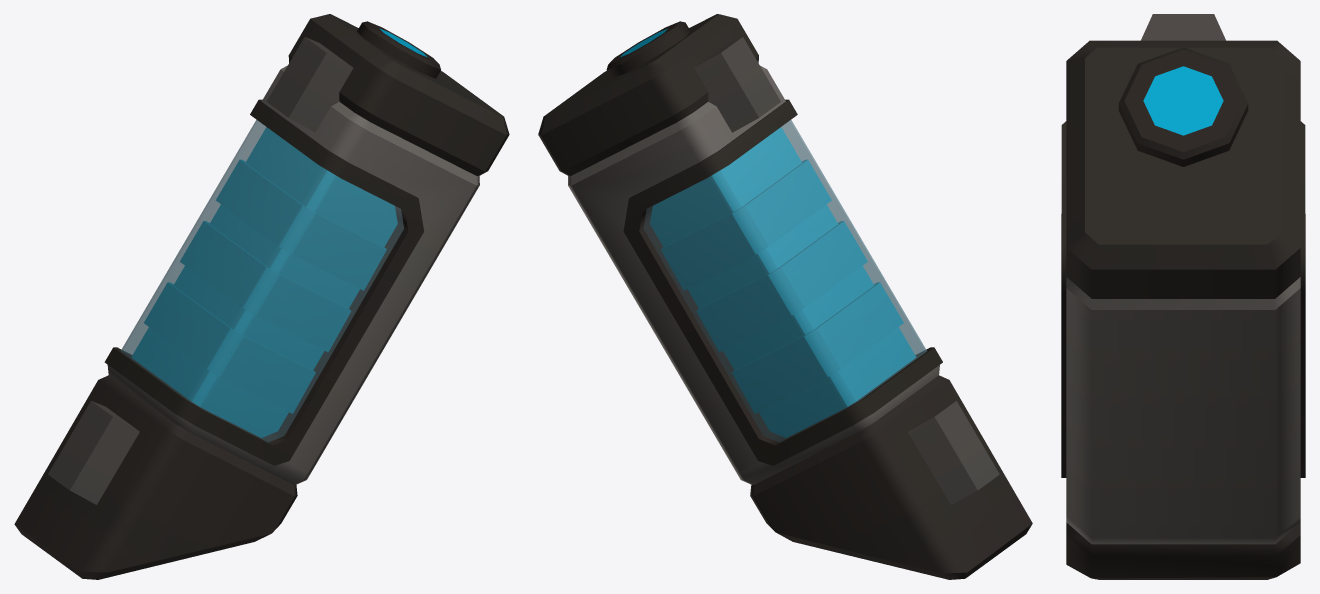
File: SMG5_MagazineExtended.fbx
3 renders of one model, left to right at view 1: azimuth 30°, elevation 25°; view 2: azimuth 150°, elevation 25°; view 3: azimuth 270°, elevation 25°, orthographic. The views are drawn at different scales.
Parts seen in each view (by area): view 1: SMG5_MagazineExtended; view 2: SMG5_MagazineExtended; view 3: SMG5_MagazineExtended.
Boxes of the visible parts, <box> form: SMG5_MagazineExtended: <box>14,14,509,579</box>; SMG5_MagazineExtended: <box>538,14,1032,579</box>; SMG5_MagazineExtended: <box>1061,14,1305,579</box>.
Bounding box in the file's own units: 9.39 × 9.41 × 3.32.
